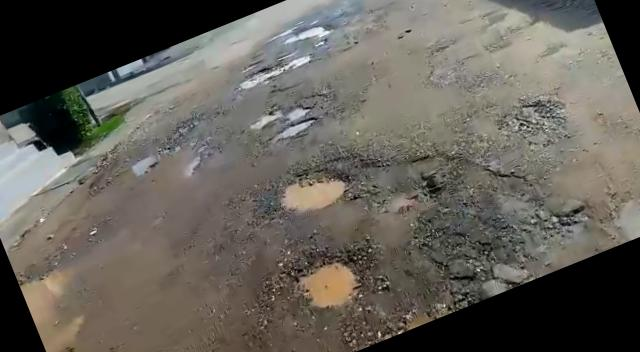pothole: (284, 244, 370, 318), (271, 156, 355, 224), (232, 56, 297, 95), (248, 94, 310, 134), (265, 112, 320, 148), (278, 17, 334, 49)
